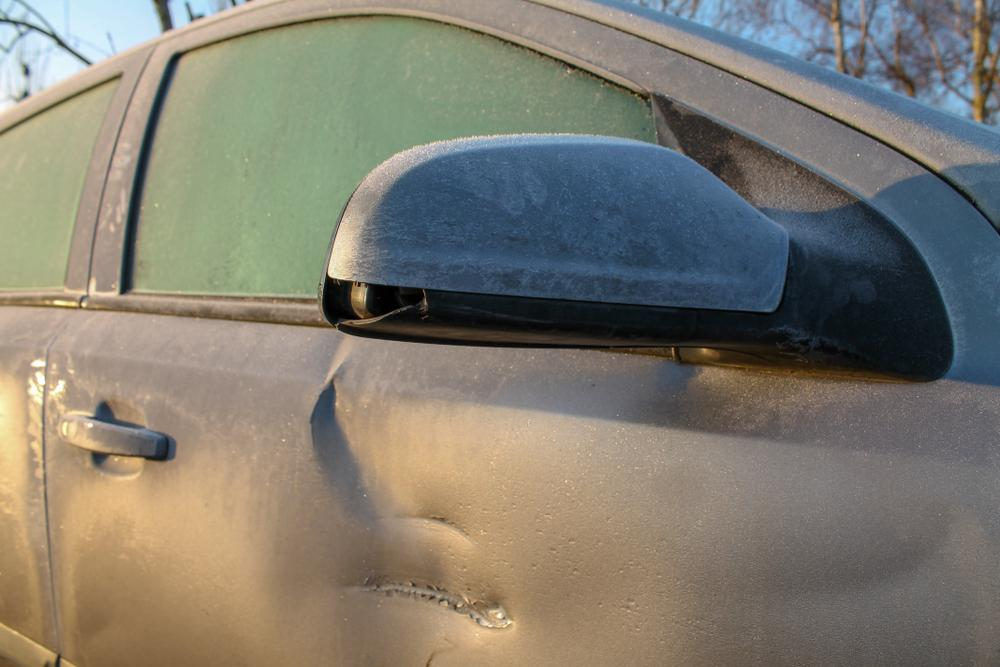dent: (265, 397, 646, 667), (773, 488, 983, 630)
